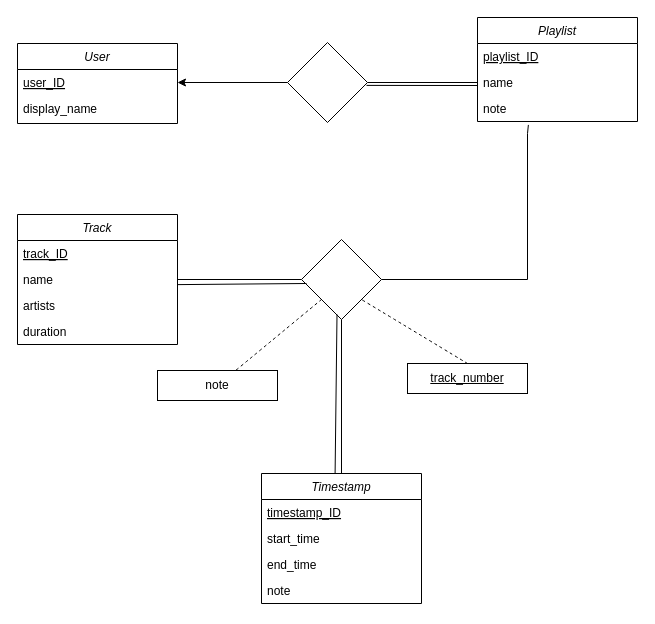
This 655x624 diagram has some shape labels left out. The box of each missing label's shape, as (x1, y1, x2, y2) in pixels:
contains: (300, 238, 382, 320)
owns: (286, 42, 368, 122)
